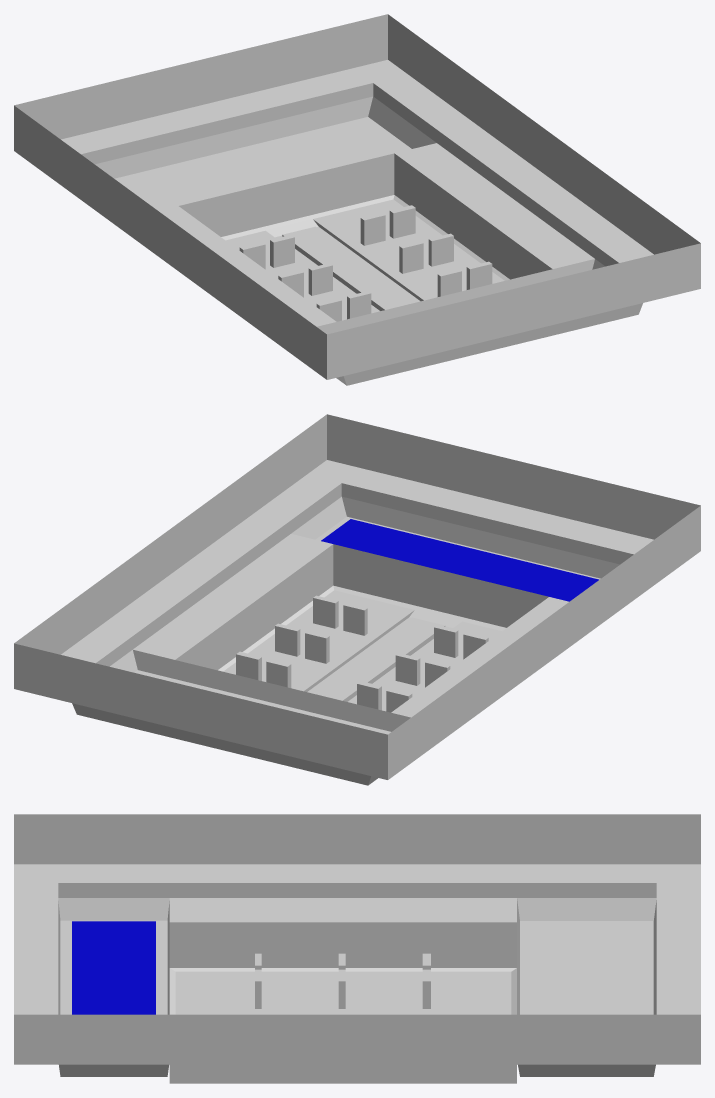
Rendered from Fusebox.fbx.
The picture shows the model from 3 angles, top to bottom: view 1: azimuth 30°, elevation 25°; view 2: azimuth 150°, elevation 25°; view 3: azimuth 270°, elevation 25°; orthographic projection. The views are drawn at different scales.
Visible parts, largest first — view 1: Fusebox; view 2: Fusebox; view 3: Fusebox.
Part boxes in pixels (x1,y1,x2,y2): Fusebox: (14, 14, 700, 385); Fusebox: (14, 414, 700, 785); Fusebox: (14, 814, 700, 1083).
Size of the model in its own units: 316 by 85.17 by 458.
